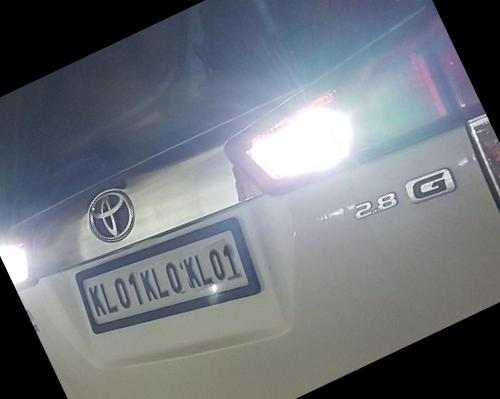plate: (62, 187, 287, 370)
